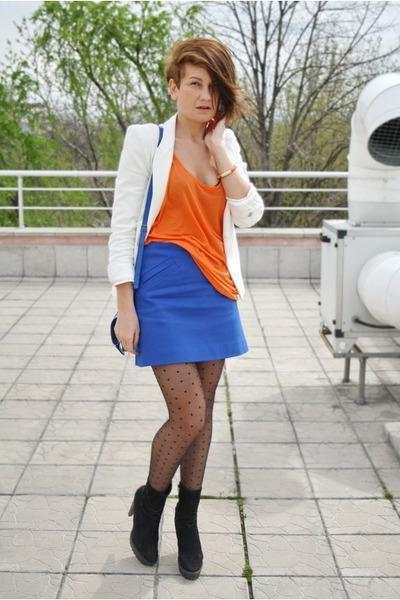jacket: (98, 122, 267, 297)
skirt: (128, 242, 252, 367)
vest: (138, 156, 241, 302)
